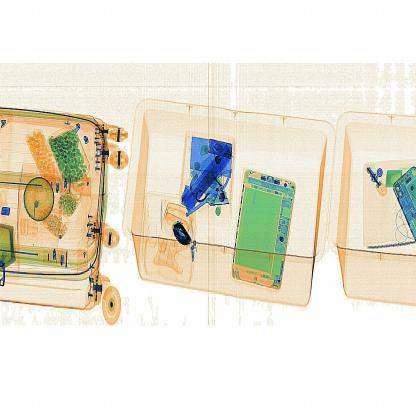scissors: (165, 213, 203, 252)
